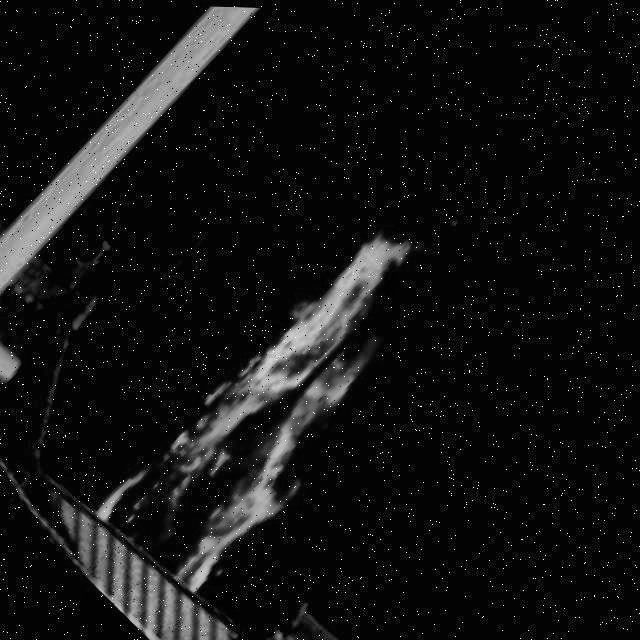Fire: (84, 159, 534, 618)
